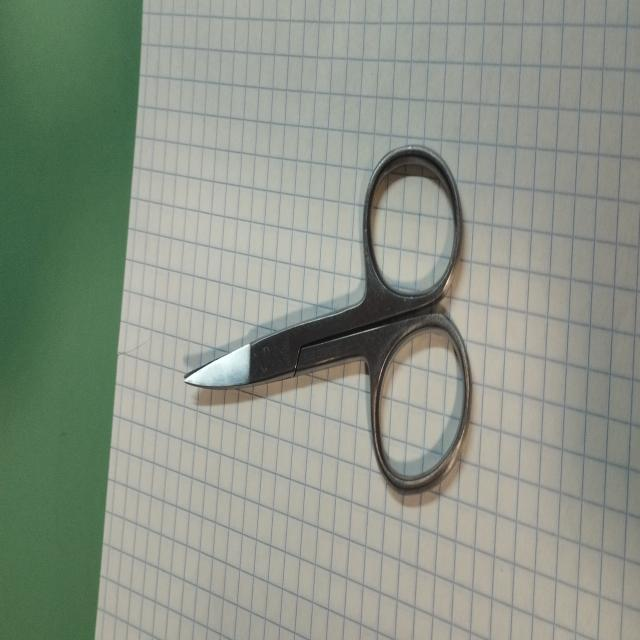tesoura: (179, 138, 476, 502)
